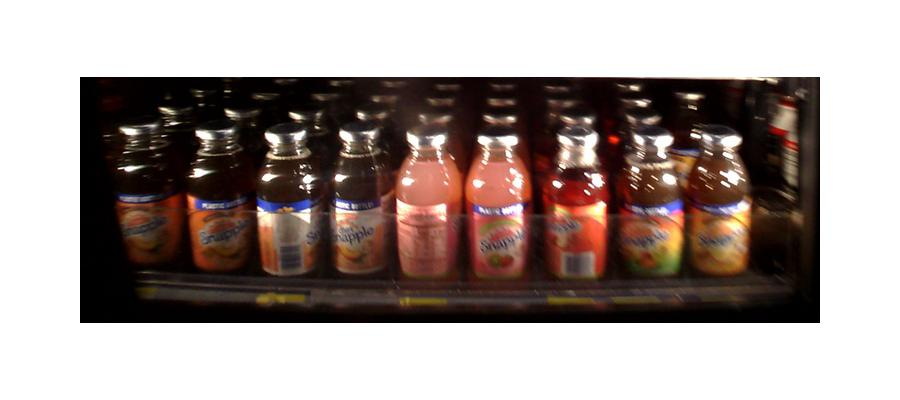bottle: (256, 121, 321, 282), (112, 121, 182, 270), (186, 124, 252, 276), (544, 125, 607, 283), (396, 127, 459, 285), (466, 132, 532, 280), (690, 125, 750, 280), (329, 124, 389, 278), (620, 127, 681, 277)
